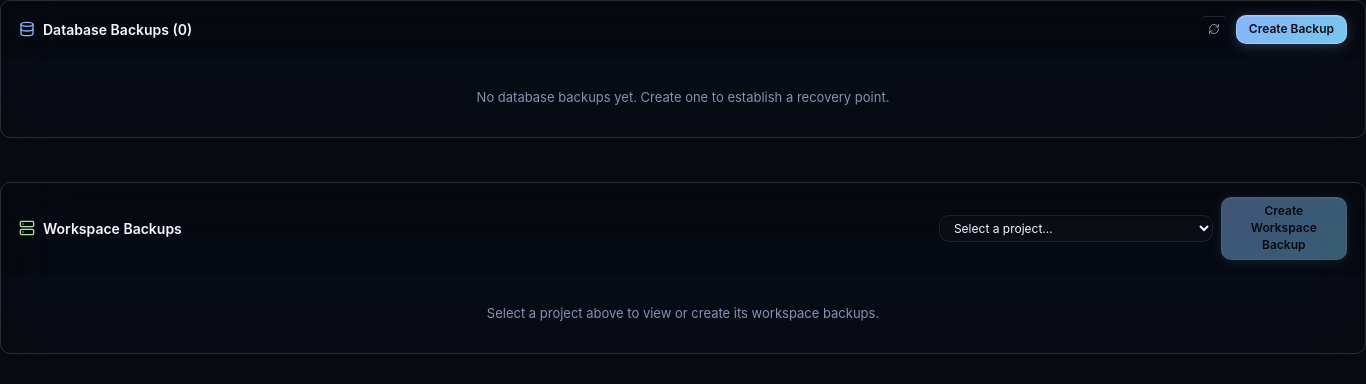
AdminBackupsPanel — Milestone 46 › 12. workspace backup list renders
Expected: the text "No database backups yet" is shown, [477, 89, 889, 105]
Select "My Project (alice)" in the dropdown at (1076, 228), box [939, 215, 1213, 242]
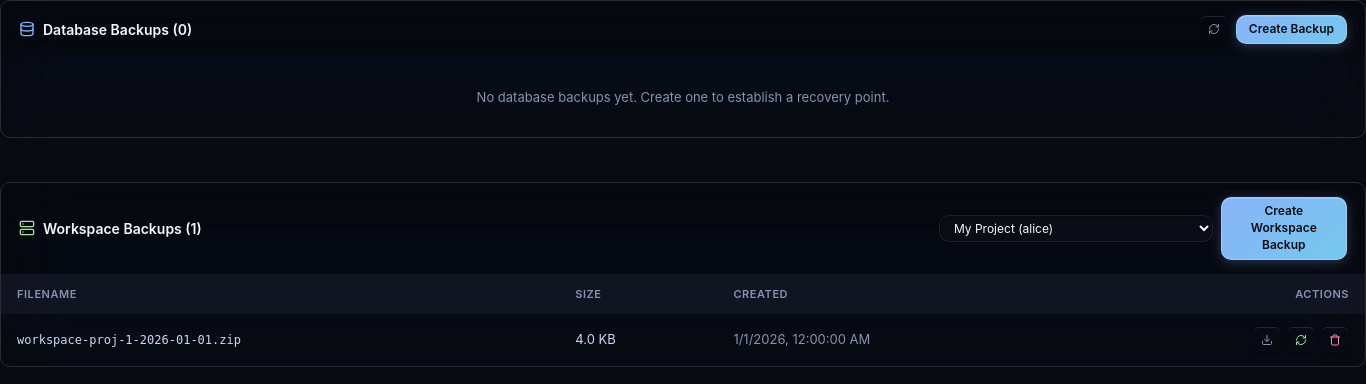
Result: the text "workspace-proj-1-2026-01-01.zip" is shown at [1, 314, 559, 366]
